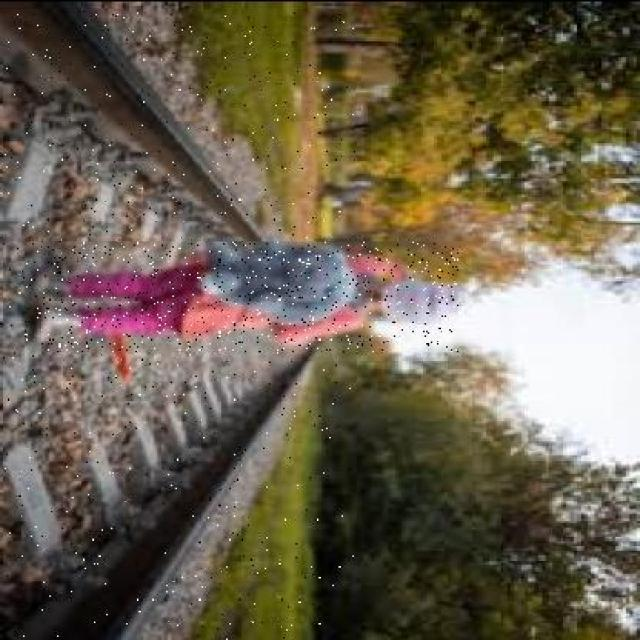danger: (24, 240, 458, 351)
rail: (3, 9, 355, 638)
